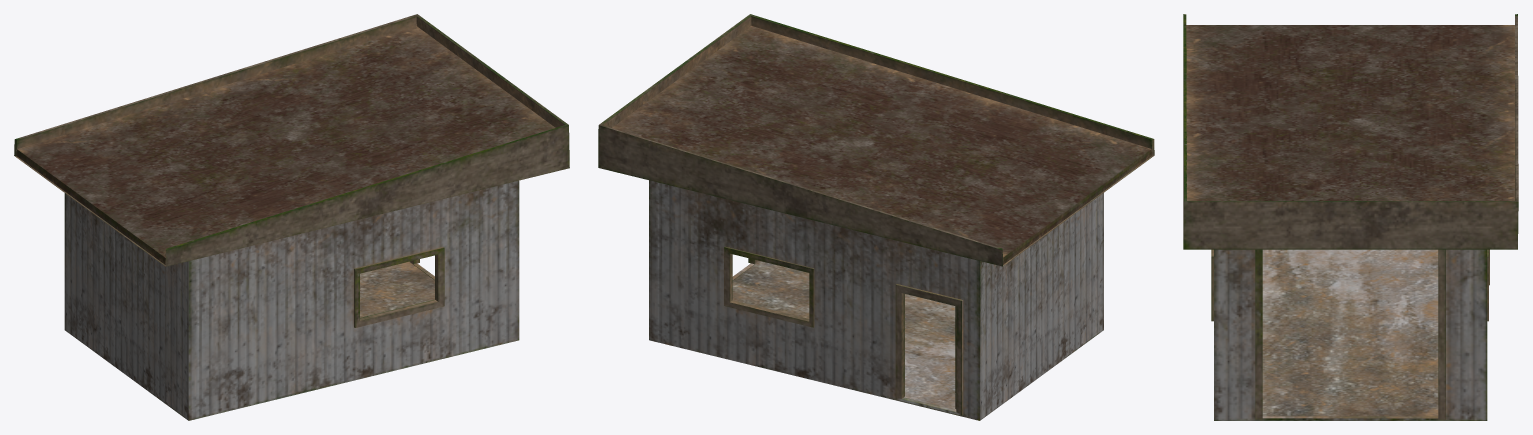
Rendered from garage.glb.
The picture shows the model from 3 angles, left to right: view 1: azimuth 30°, elevation 25°; view 2: azimuth 150°, elevation 25°; view 3: azimuth 270°, elevation 25°; orthographic projection. The views are drawn at different scales.
Parts seen in each view (by area): view 1: Cube; view 2: Cube; view 3: Cube.
Part boxes in pixels (x1,y1,x2,y2): Cube: (14, 14, 569, 420); Cube: (598, 14, 1154, 420); Cube: (1183, 14, 1518, 420).
Size of the model in its own units: 769 by 393 by 500.
Materials: 1 (1 with a texture image).
